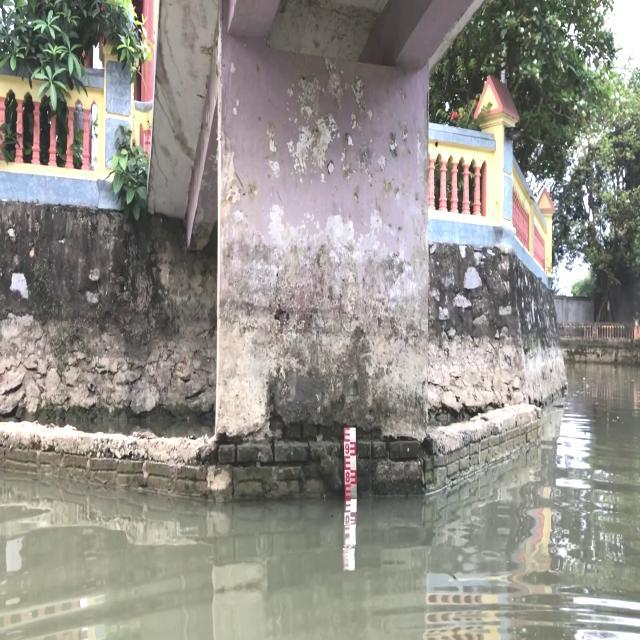ruler: (337, 420, 366, 500)
value: (343, 469, 352, 486), (342, 442, 350, 456)
